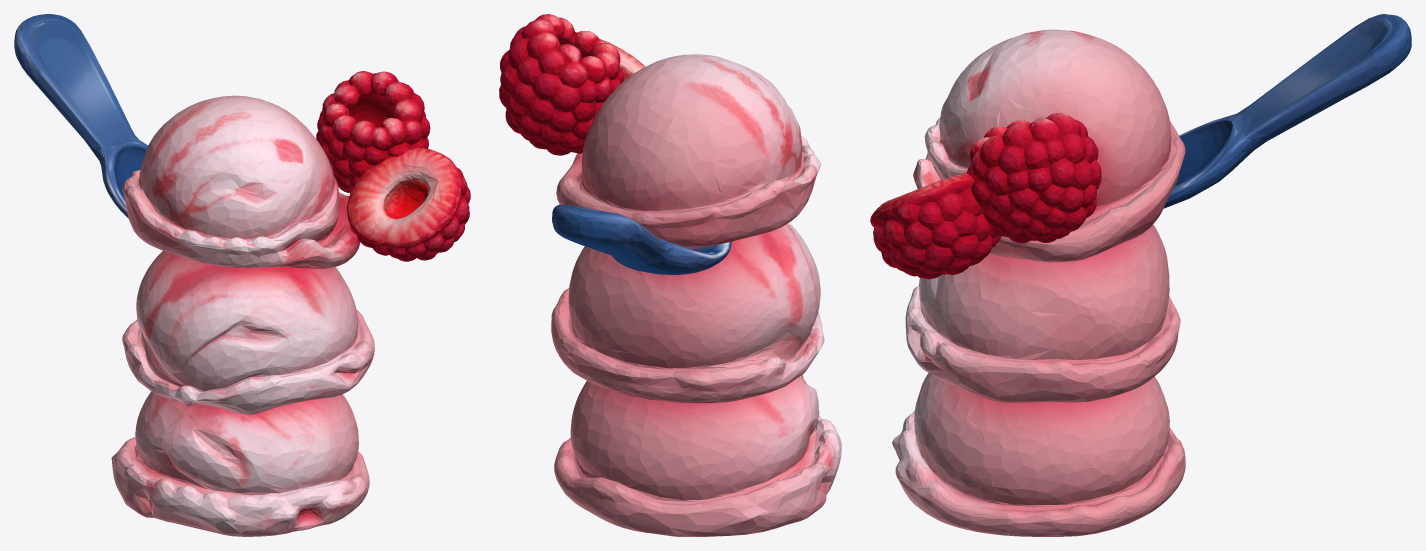
Rendered from Web_IceCream_Raspberry.obj.
3 views of the same model, side by side, from view 1: azimuth 30°, elevation 25°; view 2: azimuth 150°, elevation 25°; view 3: azimuth 270°, elevation 25° (orthographic). The views are drawn at different scales.
Visible parts, largest first — view 1: Web_IceCream_Raspberry; view 2: Web_IceCream_Raspberry; view 3: Web_IceCream_Raspberry.
Part boxes in pixels (x1=…): Web_IceCream_Raspberry: x1=14, y1=14, x2=470, y2=536; Web_IceCream_Raspberry: x1=499, y1=14, x2=841, y2=536; Web_IceCream_Raspberry: x1=870, y1=14, x2=1411, y2=536.
Bounding box in the file's own units: 0.6764 × 0.8699 × 0.9661.
Materials: 1 (1 with a texture image).
